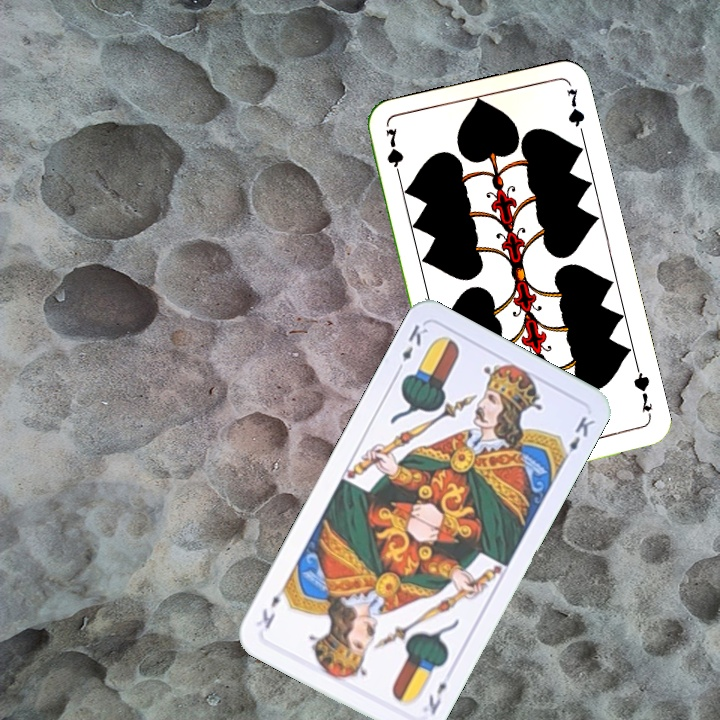EK: (392, 320, 431, 376), (424, 678, 450, 718)
G7: (629, 363, 655, 421), (381, 124, 406, 183)
